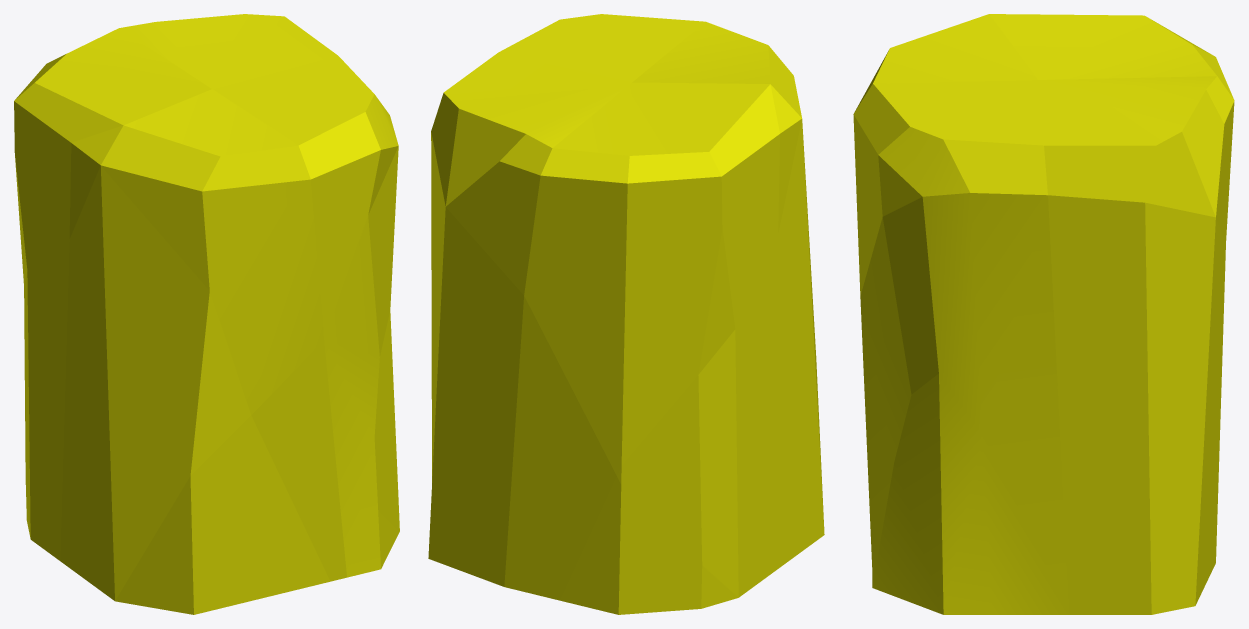
The picture shows the model from 3 angles, left to right: view 1: azimuth 30°, elevation 25°; view 2: azimuth 150°, elevation 25°; view 3: azimuth 270°, elevation 25°; orthographic projection. The views are drawn at different scales.
Visible parts, largest first — view 1: stone_002; view 2: stone_002; view 3: stone_002.
Part boxes in pixels (<box>): stone_002: <box>14,14,399,614</box>; stone_002: <box>428,14,824,614</box>; stone_002: <box>853,14,1234,614</box>.
Size of the model in its own units: 1.03 by 1.54 by 1.13.
1 material, 1 textured.
